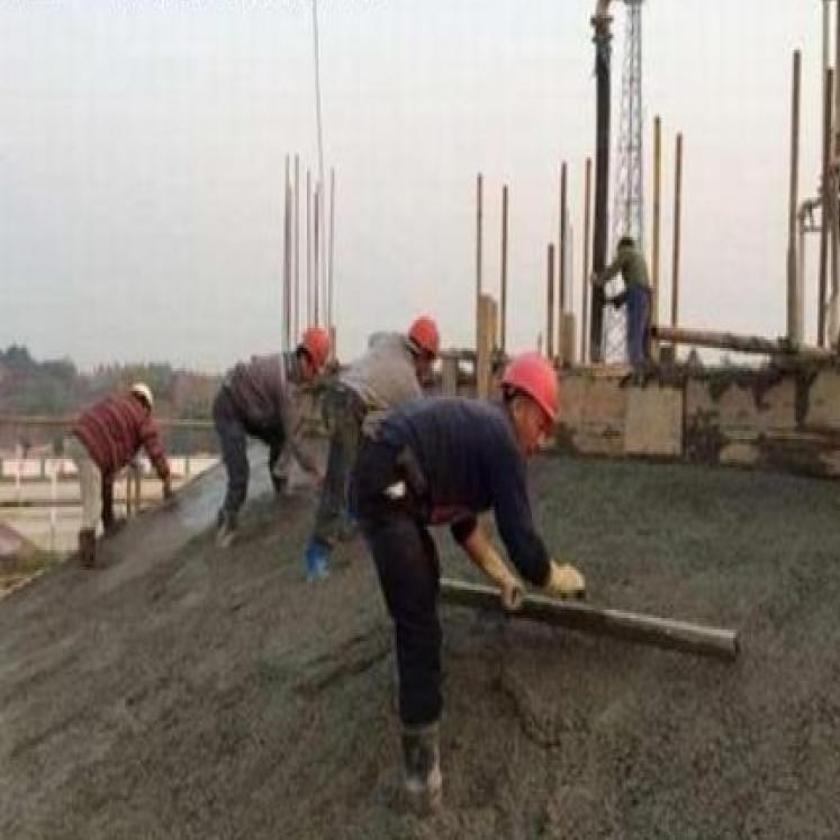Con_casco: (493, 355, 566, 457), (292, 306, 336, 392), (409, 313, 441, 388)
